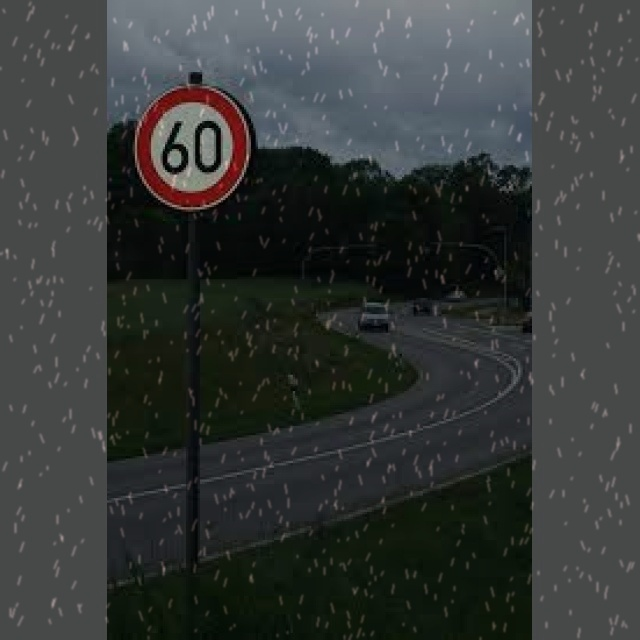Speed_Limit_60: (134, 82, 252, 210)
